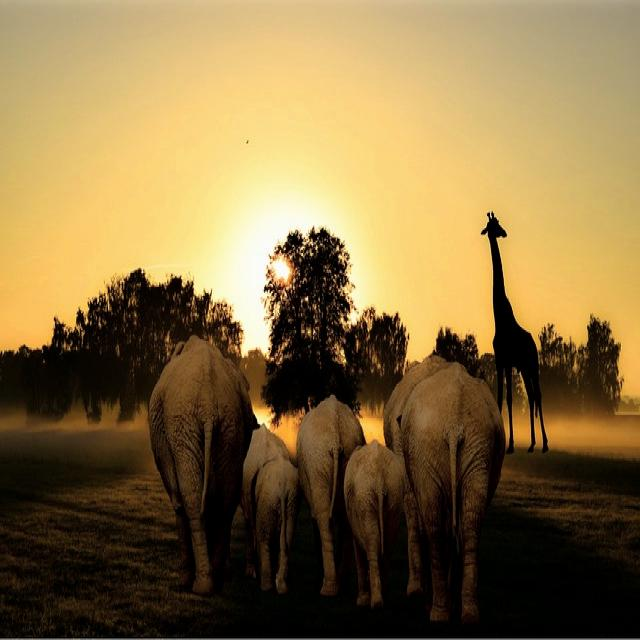FIL: (402, 364, 510, 626), (152, 335, 250, 589), (308, 395, 360, 599), (347, 441, 407, 610), (253, 456, 296, 598), (244, 425, 288, 513)
